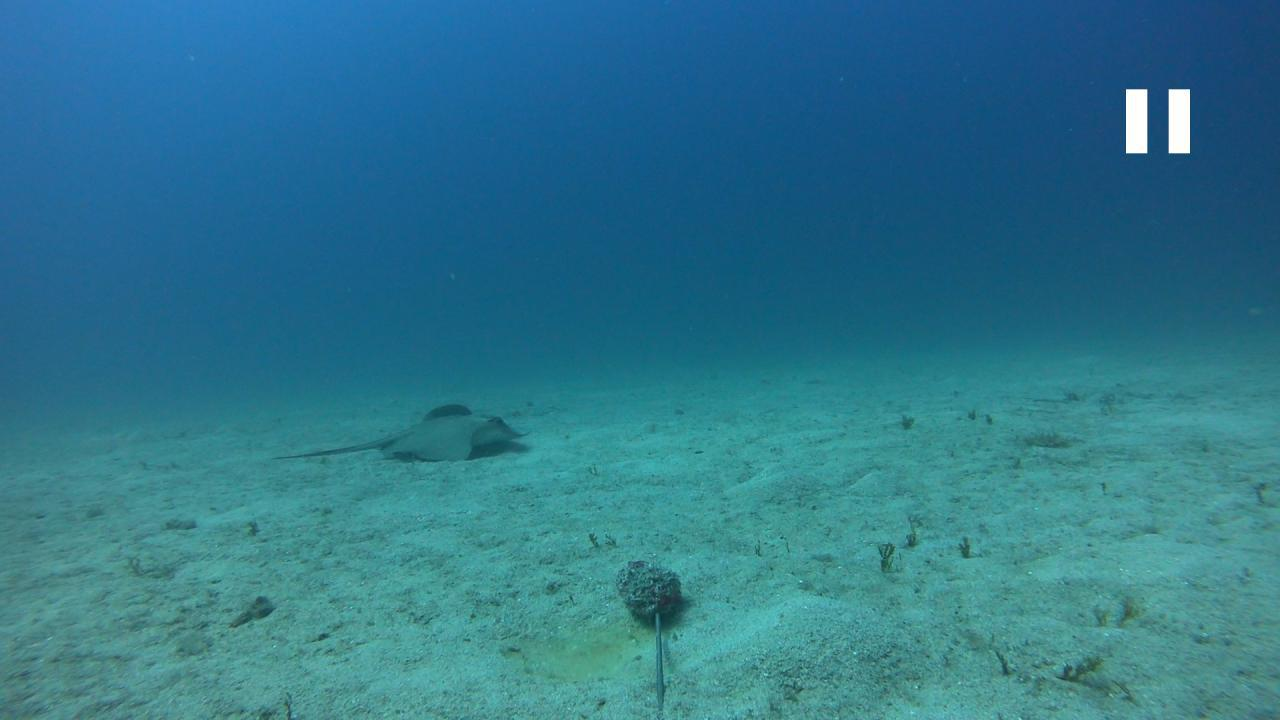dasyatis: (266, 402, 534, 460)
